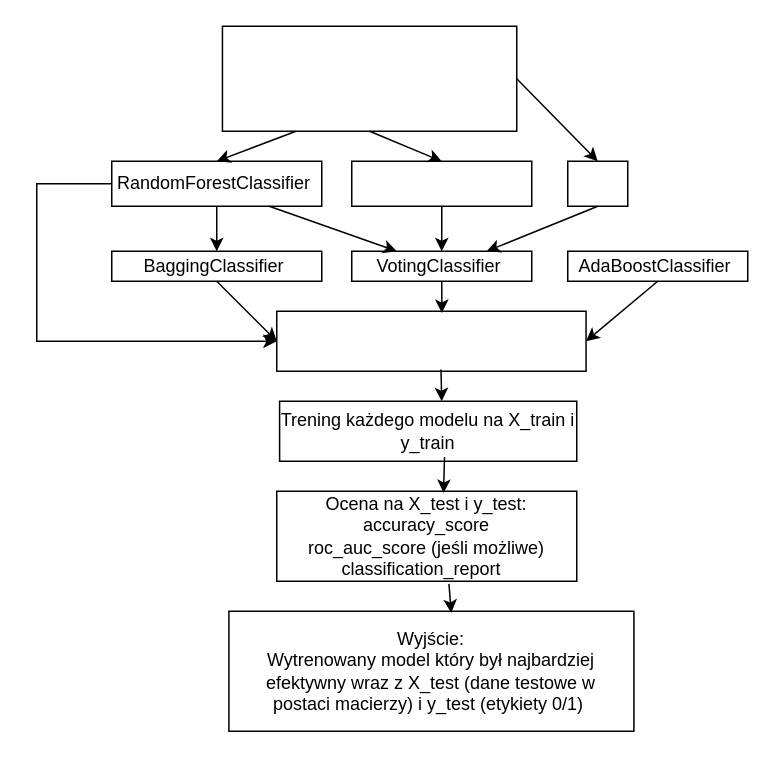
Image size: 774x758. Some labels were removed from this diagram. The centre of each missing label's shape, as x and y in pixels:
"Dodanie wszystkich modeli do jednej tabeli" goes at point (430, 340).
"LogisticRegression" goes at point (441, 183).
"SVC" goes at point (597, 183).
"Wejście: Dane treningowe: X_train, y_train Dane testowe: X_test, y_test" goes at point (369, 78).
